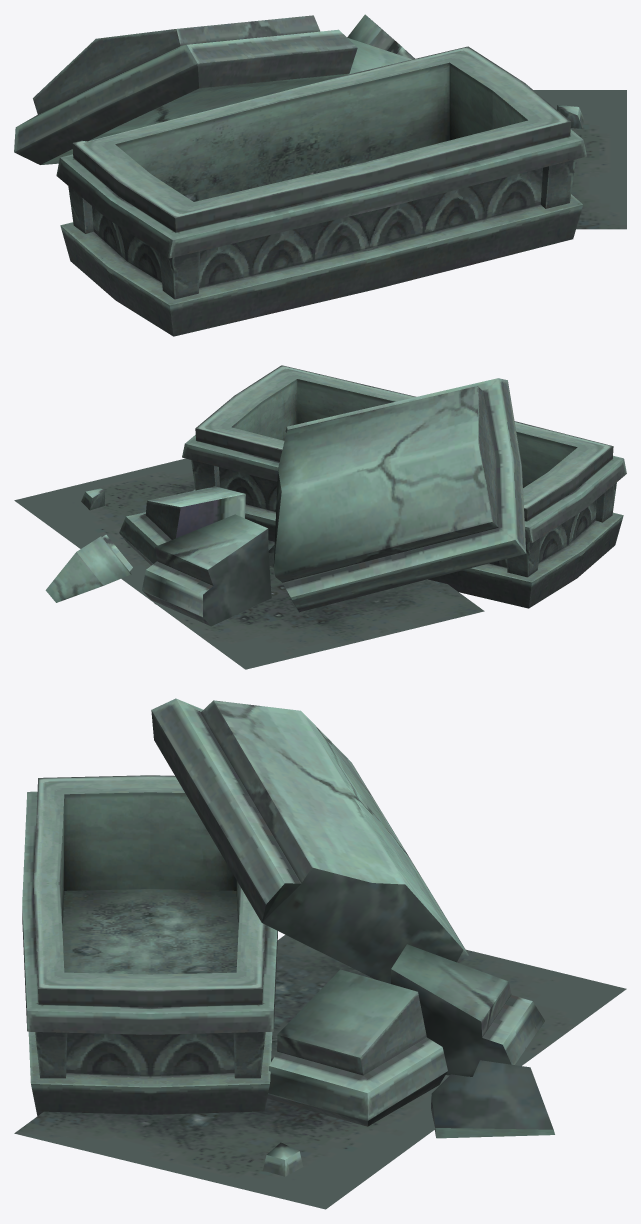
Rendered from crypt_tomb_opened04.fbx.
The picture shows the model from 3 angles, top to bottom: view 1: azimuth 30°, elevation 25°; view 2: azimuth 150°, elevation 25°; view 3: azimuth 270°, elevation 25°; orthographic projection. The views are drawn at different scales.
Parts seen in each view (by area): view 1: crypt_tomb_opened04-0; view 2: crypt_tomb_opened04-0; view 3: crypt_tomb_opened04-0.
Part boxes in pixels (<box>): crypt_tomb_opened04-0: <box>14,14,626,336</box>; crypt_tomb_opened04-0: <box>14,365,626,669</box>; crypt_tomb_opened04-0: <box>14,698,626,1209</box>.
Bounding box in the file's own units: 4.07 × 1.52 × 3.24.
